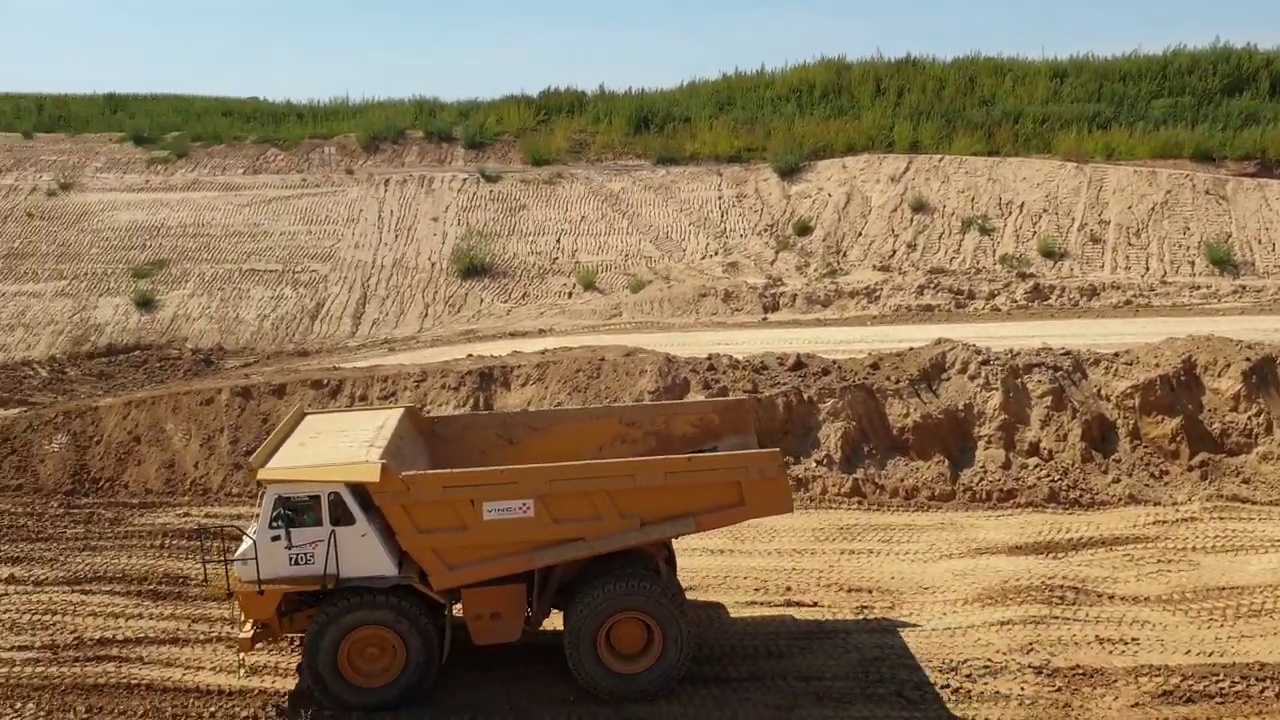truck: (197, 396, 806, 714)
